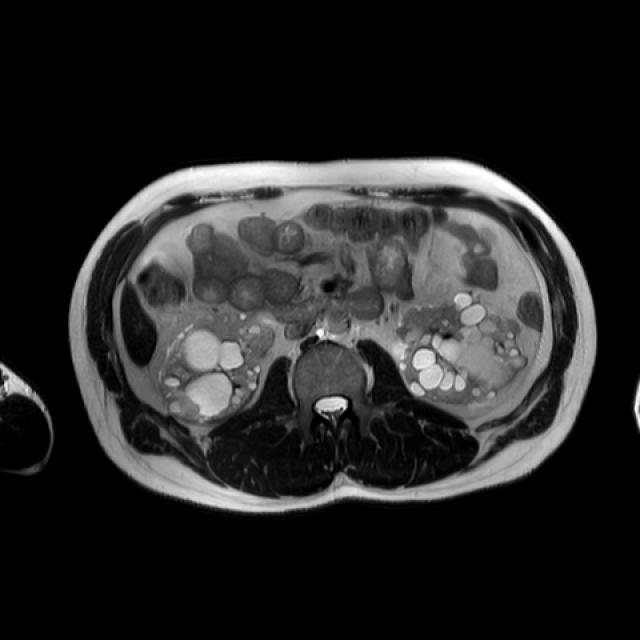sag: (158, 311, 279, 425)
sol: (393, 291, 530, 404)
